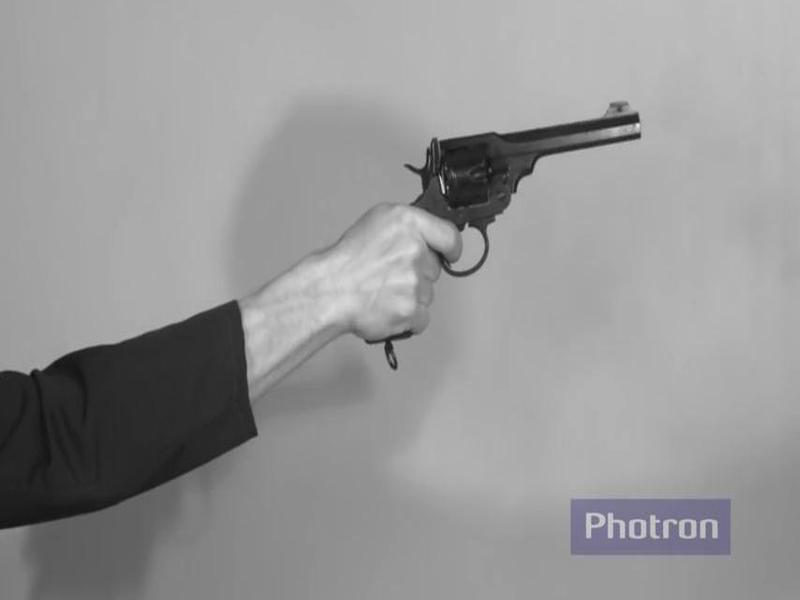Revolver: (385, 84, 681, 323)
